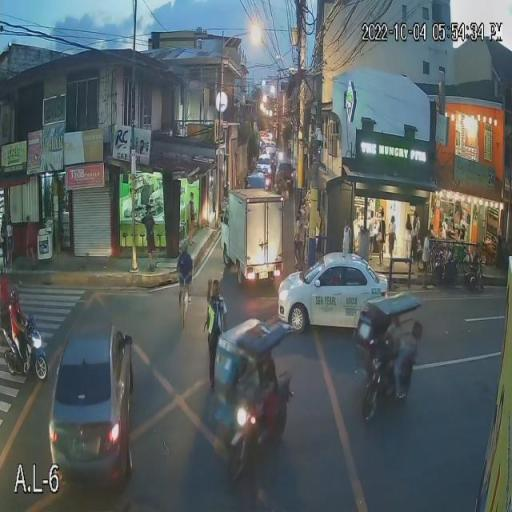helmet: (10, 283, 21, 295)
motorcycle: (0, 312, 48, 382), (430, 244, 460, 287), (459, 245, 486, 291)
rider: (8, 285, 30, 358), (176, 248, 194, 294)
